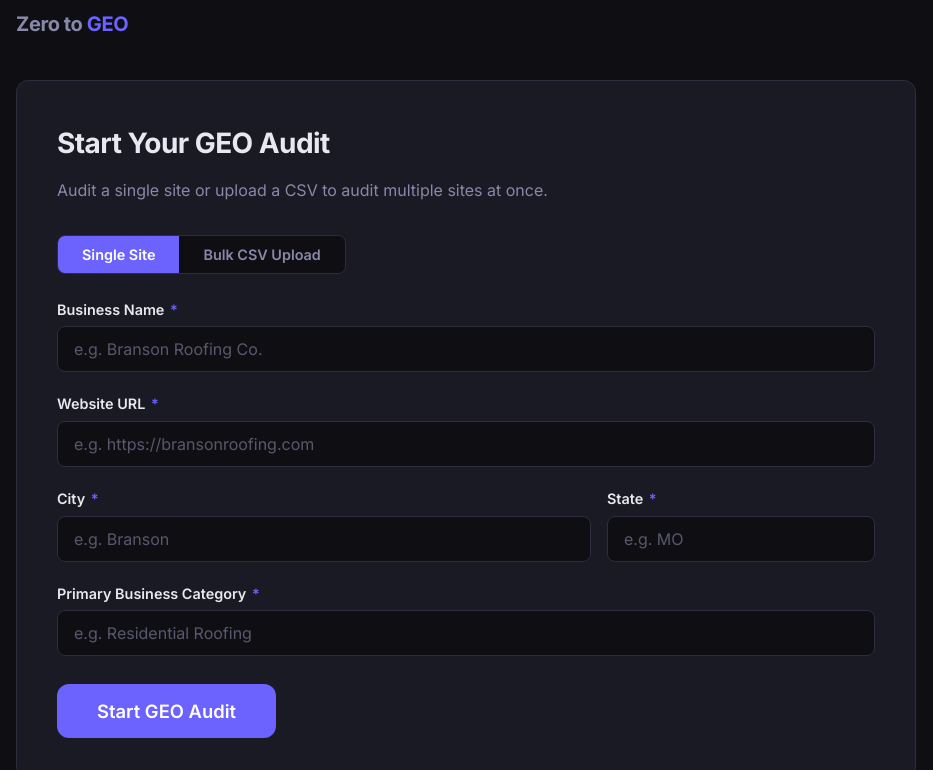
Test: AuditInputPage › shows URL validation error for invalid URL
// A URL without a dot in the hostname is rejected by validation
In the field labelled "Website URL *": (466, 444) [57, 421, 875, 467], type "https://notavalidhostname"
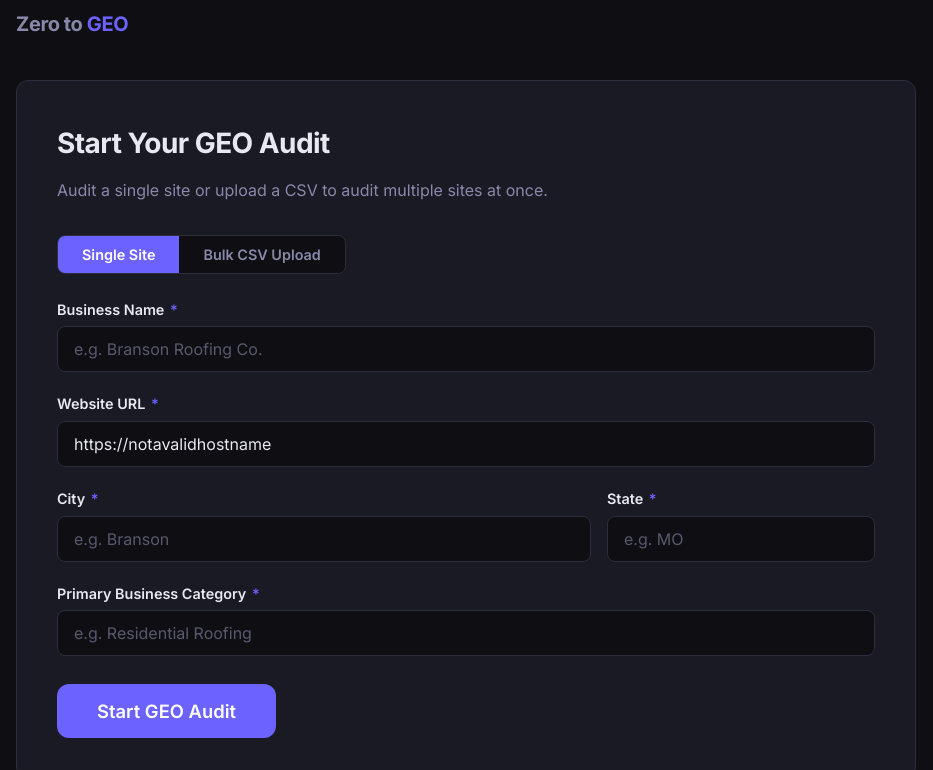
Click the button "Start GEO Audit": (166, 711) [57, 684, 276, 738]
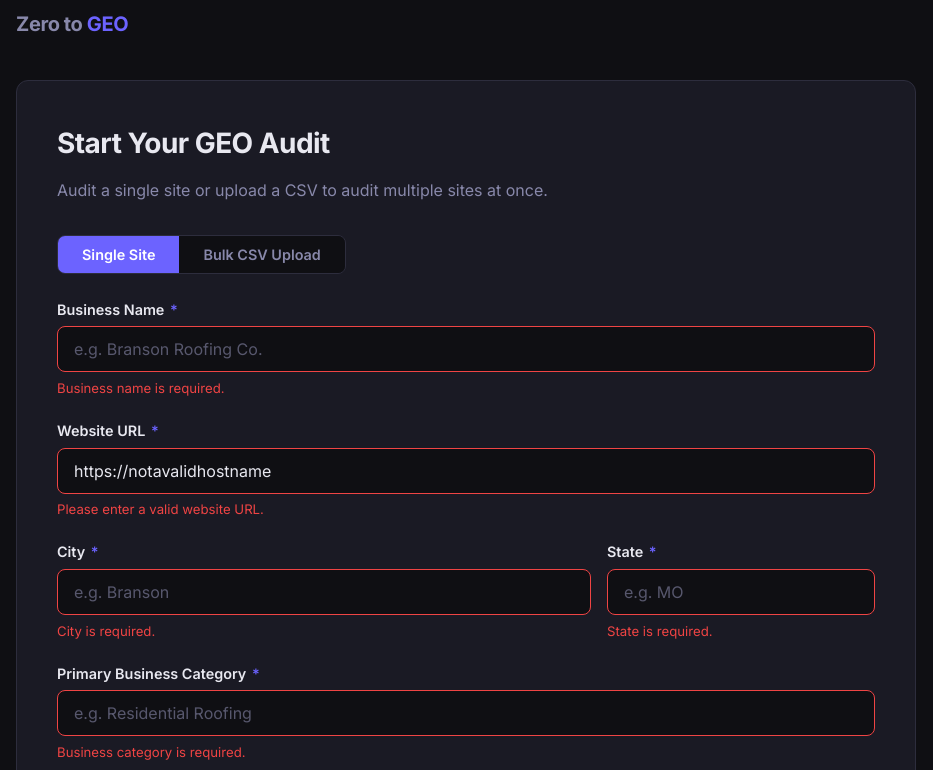
Now the text "Please enter a valid website URL." is shown, box [57, 501, 264, 517]
